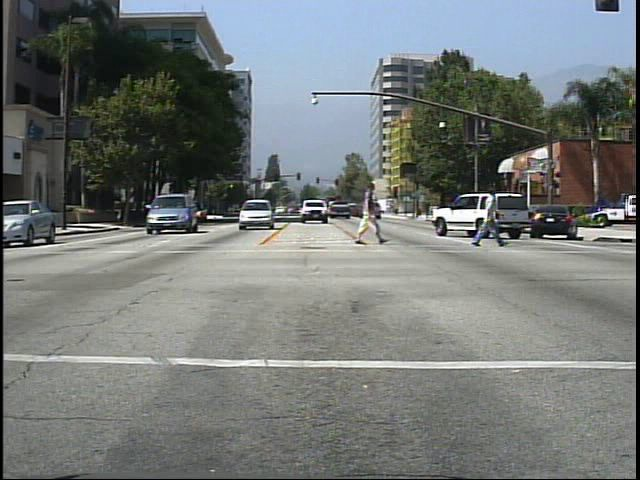person: (470, 180, 507, 255), (348, 176, 385, 250)
